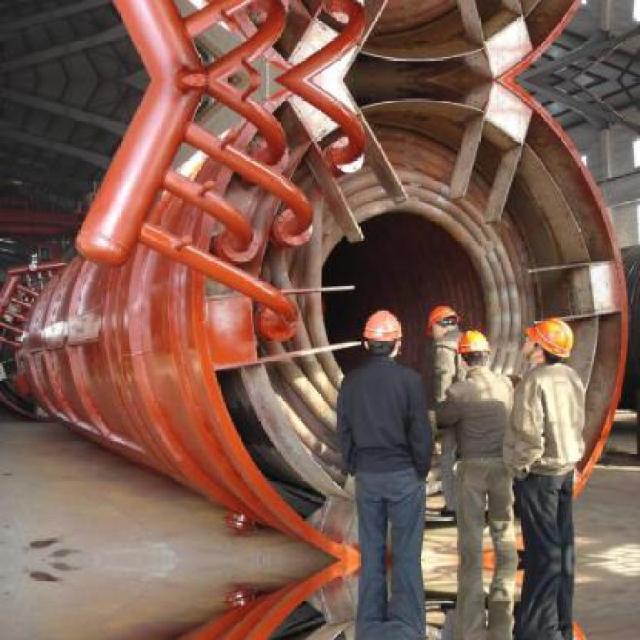helmet: (360, 306, 406, 365), (522, 315, 573, 368), (455, 330, 490, 372), (424, 303, 459, 340)
